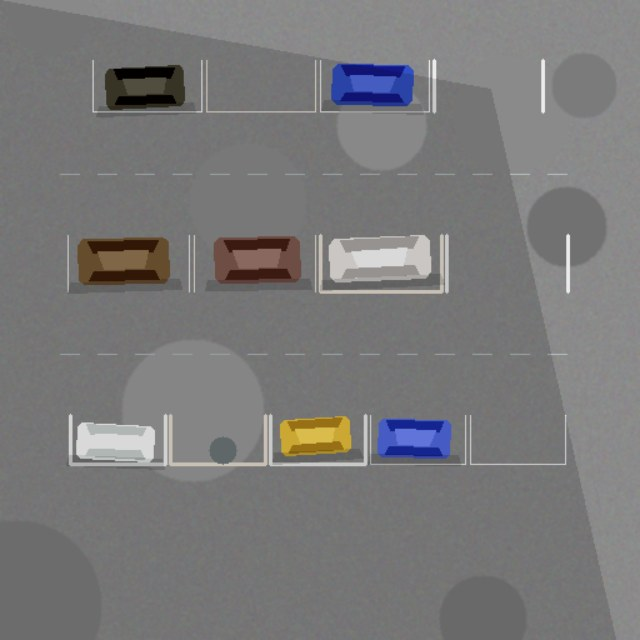space-empty: (446, 235, 567, 291), (206, 60, 315, 111), (434, 60, 542, 111), (170, 415, 265, 464), (470, 415, 565, 464)
space-occupied: (67, 235, 189, 291), (194, 235, 315, 291), (320, 235, 441, 291), (92, 60, 201, 111), (320, 60, 429, 111), (70, 415, 165, 464), (270, 415, 365, 464), (370, 415, 465, 464)
